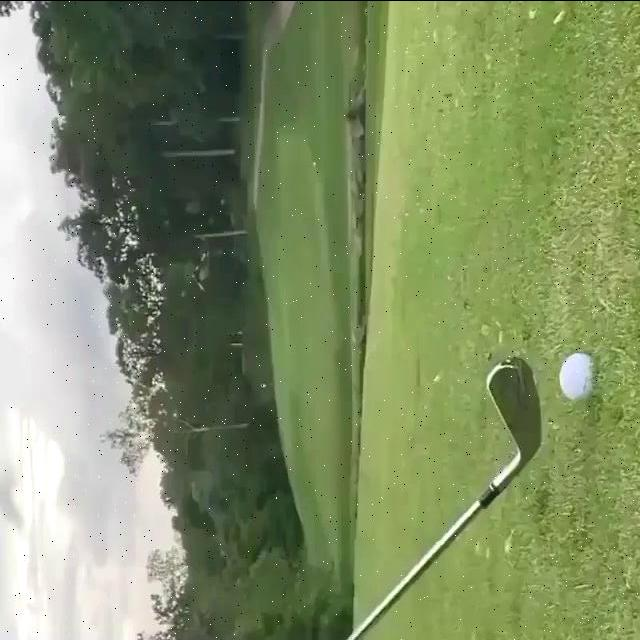golf ball: (559, 352, 592, 400)
golf club-handle: (351, 359, 542, 640)
golf club-head: (486, 361, 541, 457)
